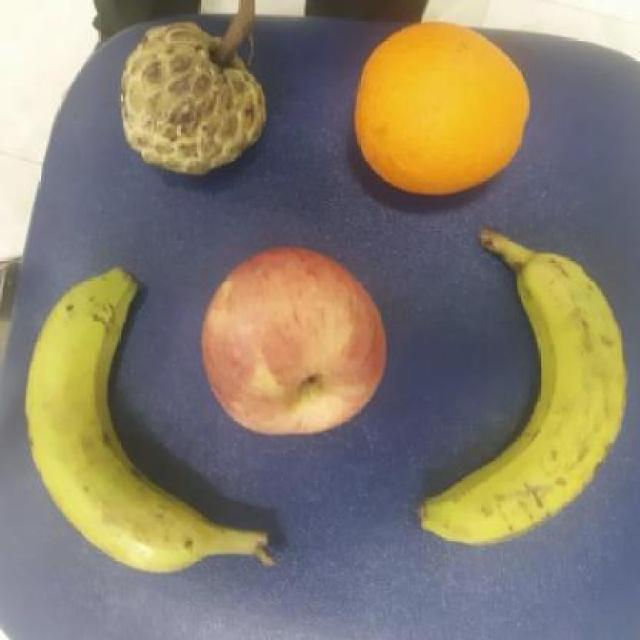apple: (196, 241, 396, 439)
banana: (410, 240, 639, 545), (19, 266, 204, 583)
oren: (352, 26, 537, 209)
sugar apple: (104, 19, 264, 182)
